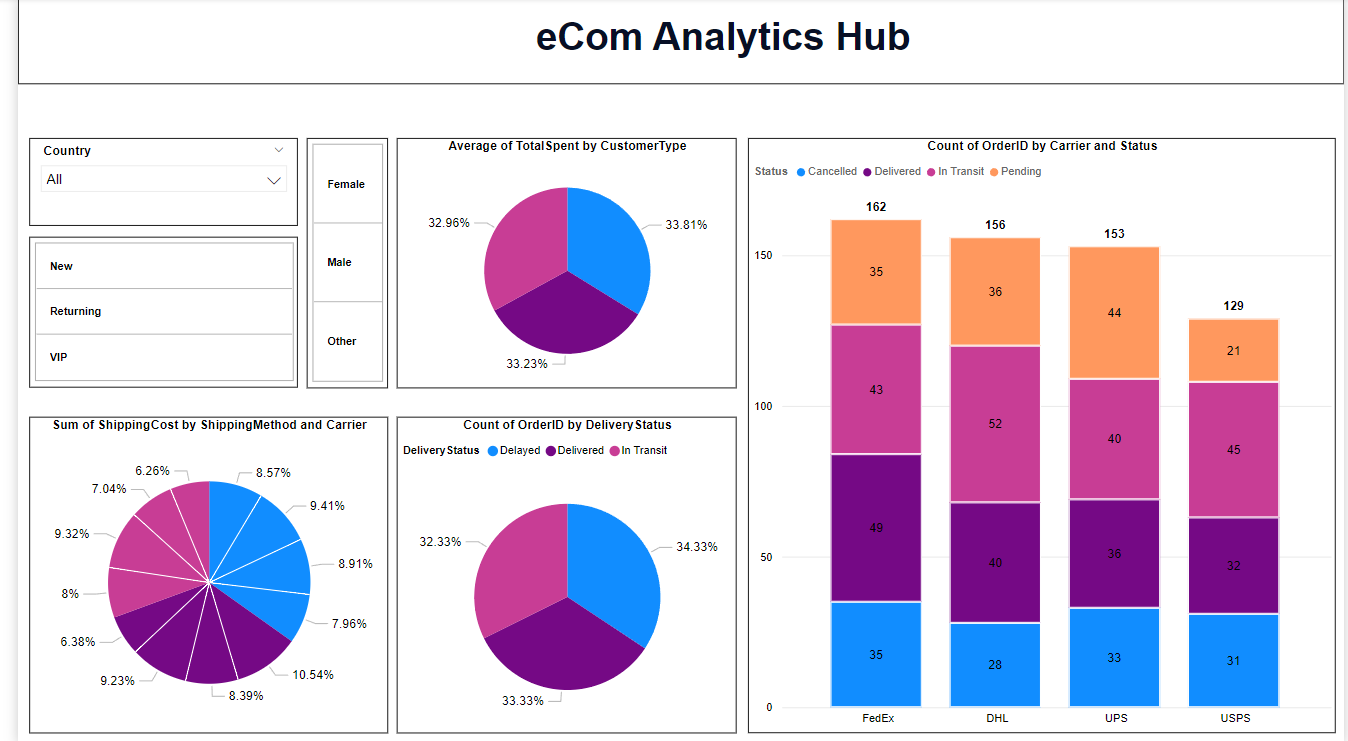

What the dashboard file says about the page in this screenshot:
{"tool":"powerbi","page":{"name":"Page 1","canvas":[1280,720],"ordinal":0},"visuals":[{"type":"textbox","box":[451.2,10.9,458.4,61.5],"z":0},{"type":"shape","box":[0,0,1280,83.2],"z":1000},{"type":"pieChart","fields":{"Y":["Avg(ecommerce_data_customers.TotalSpent)"],"Category":["ecommerce_data_customers.CustomerType"]},"box":[365.6,135.1,328.2,241.3],"z":2000},{"type":"pieChart","fields":{"Category":["ecommerce_data_shipping.ShippingMethod"],"Y":["Sum(ecommerce_data_shipping.ShippingCost)"],"Series":["ecommerce_data_shipping.Carrier"]},"box":[10.9,404.2,346.2,305.2],"z":3000},{"type":"advancedSlicerVisual","fields":{"Values":["ecommerce_data_customers.Gender"]},"box":[278.7,135.1,78.4,241.3],"z":4000},{"type":"pieChart","fields":{"Category":["ecommerce_data_shipping.DeliveryStatus"],"Y":["CountNonNull(ecommerce_data_shipping.OrderID)"]},"box":[365.6,404.2,328.2,305.2],"z":5000},{"type":"columnChart","fields":{"Category":["ecommerce_data_shipping.Carrier"],"Y":["CountNonNull(ecommerce_data_shipping.OrderID)"],"Series":["ecommerce_data_orders.Status"]},"box":[704.6,135.1,567,574.3],"z":6000},{"type":"slicer","fields":{"Values":["ecommerce_data_customers.Country"]},"box":[10.9,135.1,259.4,84.5],"z":7000},{"type":"advancedSlicerVisual","fields":{"Values":["ecommerce_data_customers.CustomerType"]},"box":[10.9,230.4,259.4,146],"z":8000}]}

Visuals, with their boxes in screenshot pixels (x1, y1, x2, y2), scaled from the page's 1280x720 canvas onto the 1348x741 screenshot:
textbox: [left=475, top=11, right=958, bottom=75]
shape: [left=0, top=0, right=1347, bottom=86]
pieChart - Avg(ecommerce_data_customers.TotalSpent) x ecommerce_data_customers.CustomerType: [left=385, top=139, right=731, bottom=387]
pieChart - ecommerce_data_shipping.ShippingMethod x Sum(ecommerce_data_shipping.ShippingCost): [left=11, top=416, right=376, bottom=730]
advancedSlicerVisual - ecommerce_data_customers.Gender: [left=294, top=139, right=376, bottom=387]
pieChart - ecommerce_data_shipping.DeliveryStatus x CountNonNull(ecommerce_data_shipping.OrderID): [left=385, top=416, right=731, bottom=730]
columnChart - ecommerce_data_shipping.Carrier x CountNonNull(ecommerce_data_shipping.OrderID): [left=742, top=139, right=1339, bottom=730]
slicer - ecommerce_data_customers.Country: [left=11, top=139, right=285, bottom=226]
advancedSlicerVisual - ecommerce_data_customers.CustomerType: [left=11, top=237, right=285, bottom=387]
